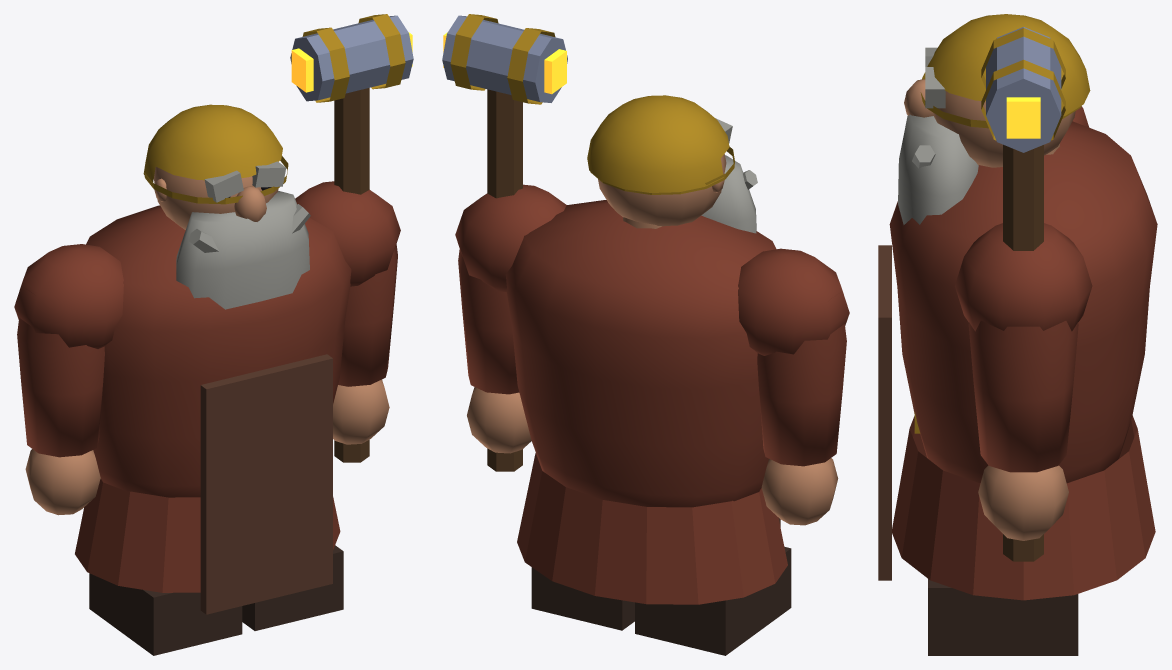
The model's file is dwarf_warlock.glb.
3 renders of one model, left to right at view 1: azimuth 30°, elevation 25°; view 2: azimuth 150°, elevation 25°; view 3: azimuth 270°, elevation 25°, orthographic. The views are drawn at different scales.
Visible parts, largest first — view 1: Body, Head, ArmR, ArmL, LegL, LegR; view 2: Body, ArmR, Head, ArmL, LegL, LegR; view 3: Body, ArmR, Head, LegR.
Part boxes in pixels (bbox=[...]): Body: bbox=[14, 181, 400, 614]; Head: bbox=[143, 104, 310, 309]; ArmR: bbox=[290, 14, 413, 462]; ArmL: bbox=[17, 287, 104, 515]; LegL: bbox=[89, 573, 242, 655]; LegR: bbox=[242, 545, 343, 630]; Body: bbox=[455, 184, 849, 604]; ArmR: bbox=[442, 14, 567, 471]; Head: bbox=[587, 95, 757, 233]; ArmL: bbox=[757, 292, 846, 525]; LegL: bbox=[635, 546, 791, 655]; LegR: bbox=[531, 567, 634, 630]; Body: bbox=[878, 106, 1157, 600]; ArmR: bbox=[968, 27, 1078, 561]; Head: bbox=[898, 14, 1090, 224]; LegR: bbox=[928, 579, 1078, 655].
Bounding box in the file's own units: 1.51 × 2.05 × 0.8174.
